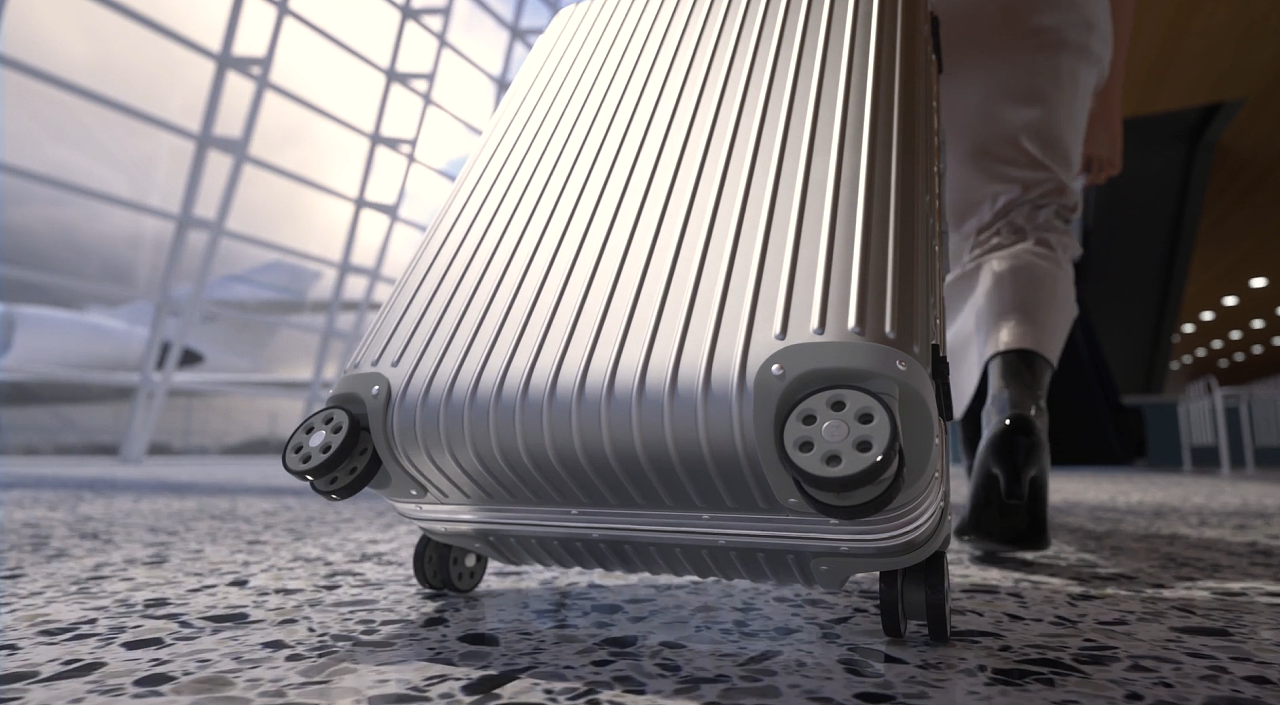box: (329, 1, 954, 590)
wheel: (776, 383, 906, 521), (282, 405, 382, 503), (876, 543, 958, 641), (411, 529, 489, 591)
